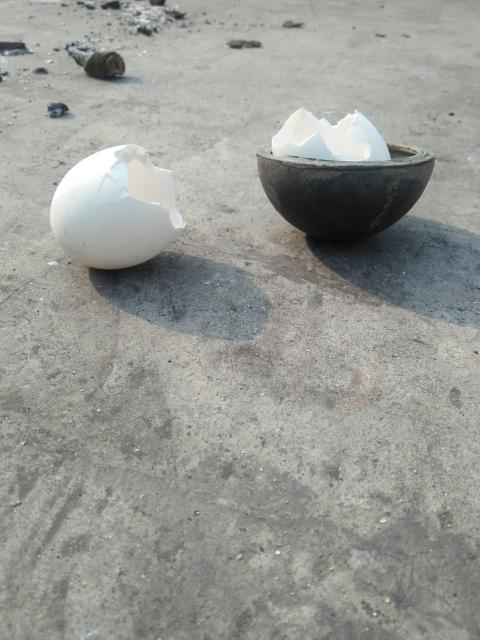Roto: (48, 143, 186, 270), (270, 106, 391, 163)
